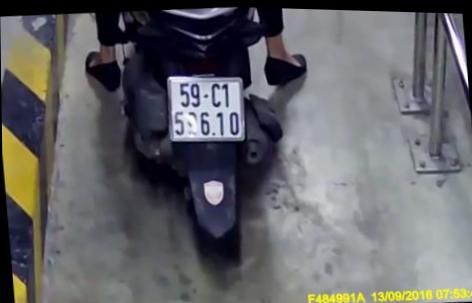LP: (164, 69, 247, 146)
